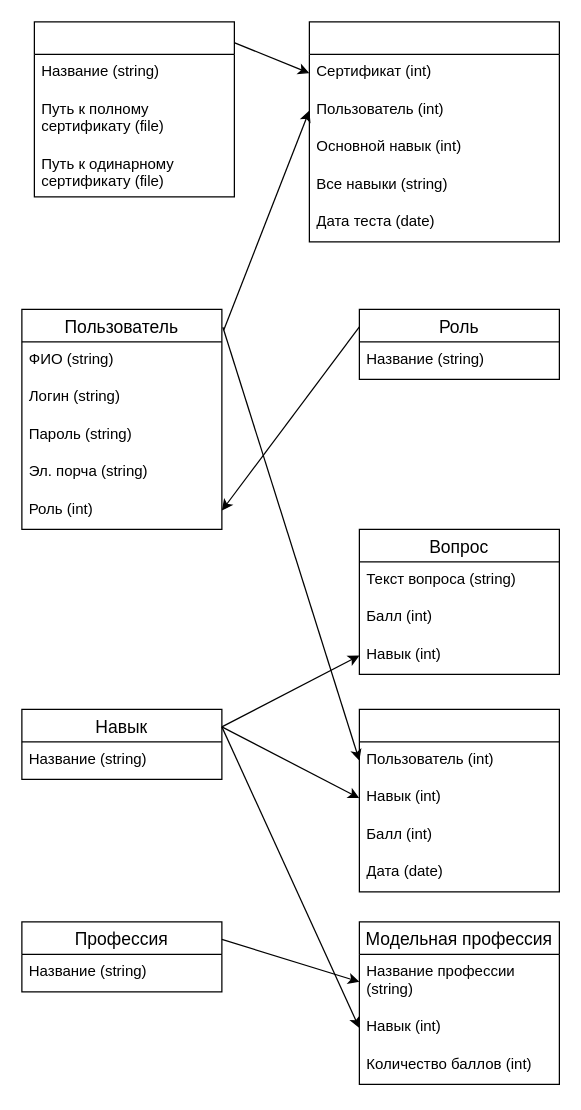
Image size: 581x1110. Some labels were removed from this diagram. The shapes that lost their labels are listed below. From the top down, each one's box as (x1, y1, x2, y2) in pixels, then its label:
(33, 21, 234, 197): Пустой сертификат
(308, 21, 559, 242): Сертификат пользователя
(358, 708, 559, 892): Ответ
